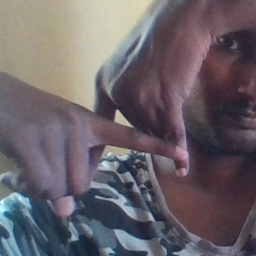H: (63, 71, 208, 197)
